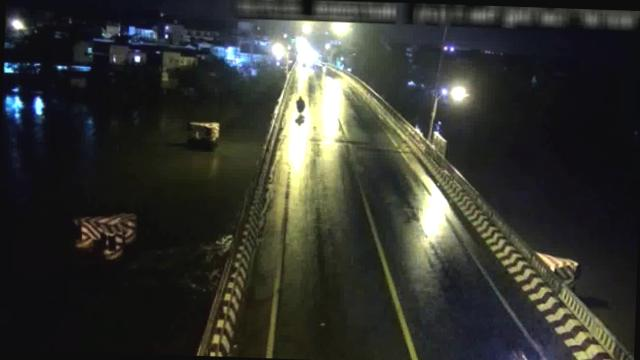Bike: (292, 94, 309, 120)
